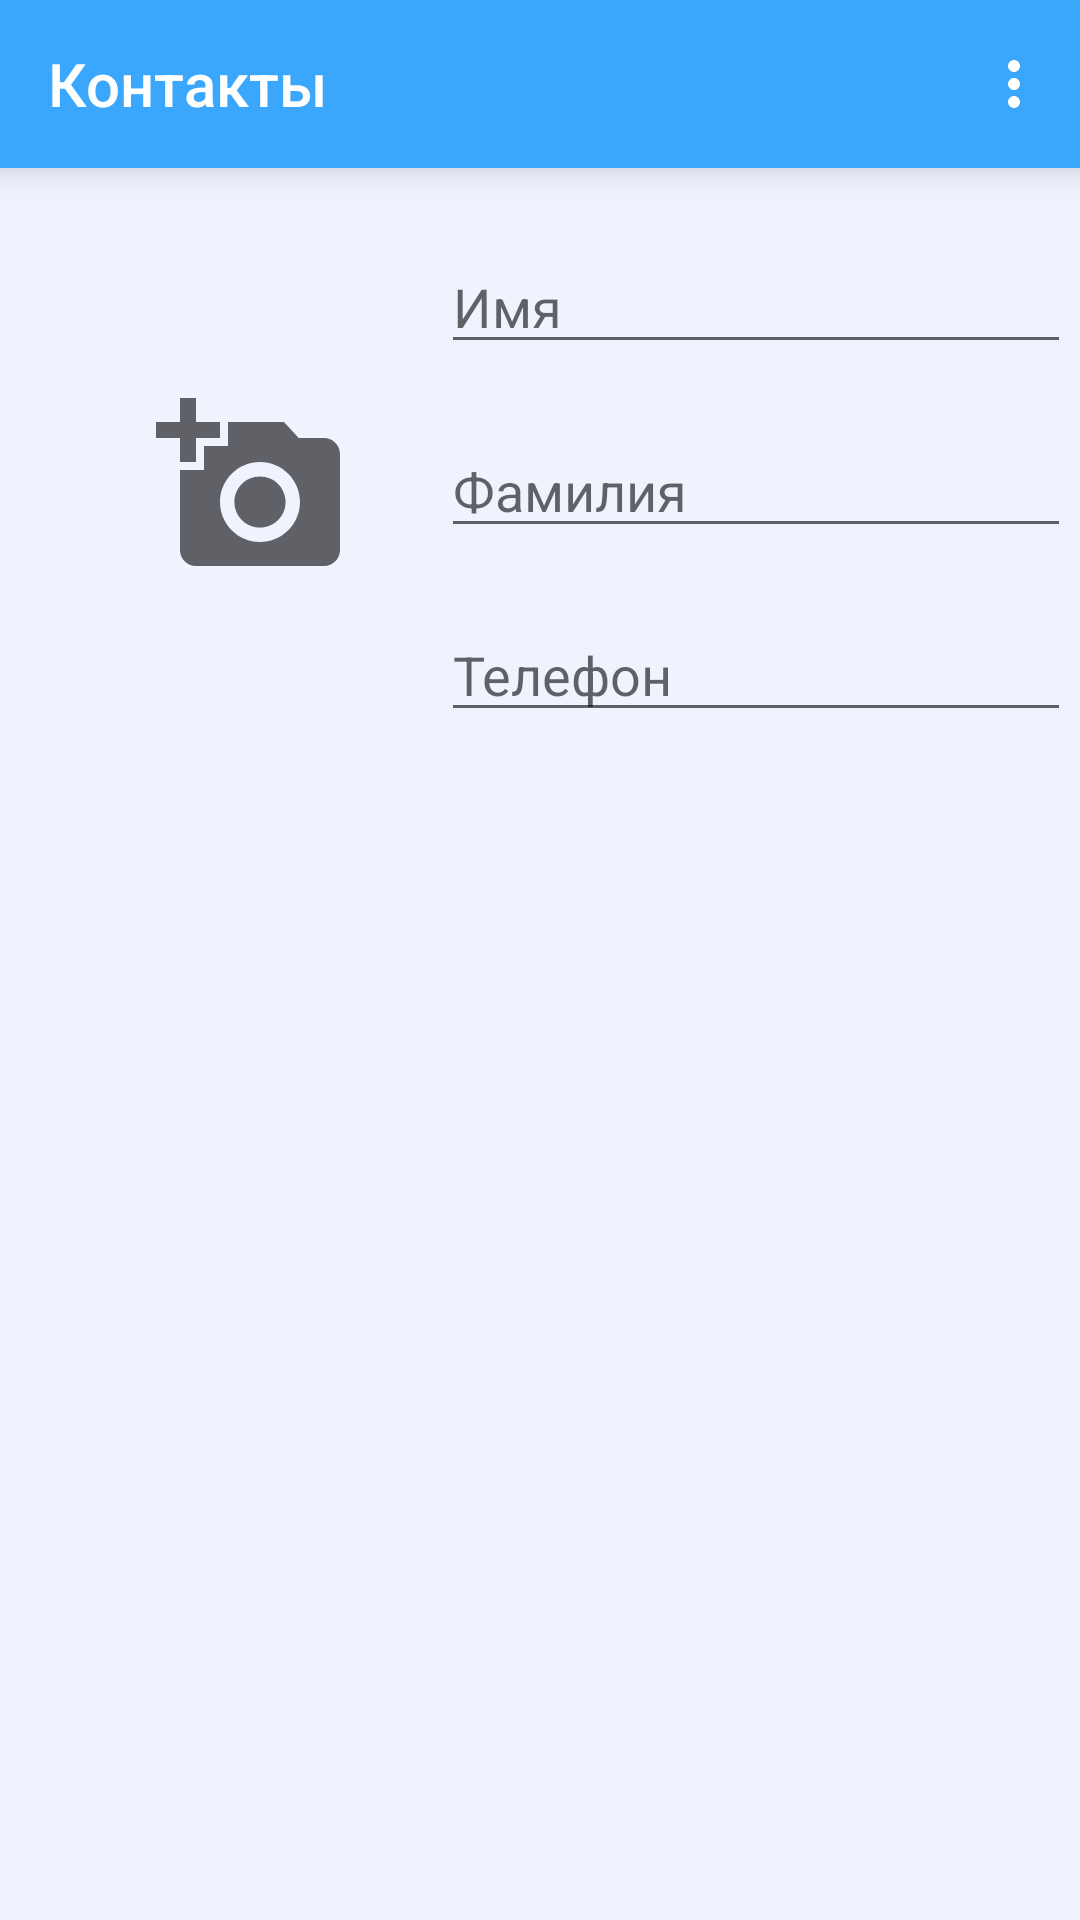

Icon bounding boxes for this 1080×1920 phone screenshot, format (x1, y1, x2, y2):
add photo: (156, 398, 340, 566)
